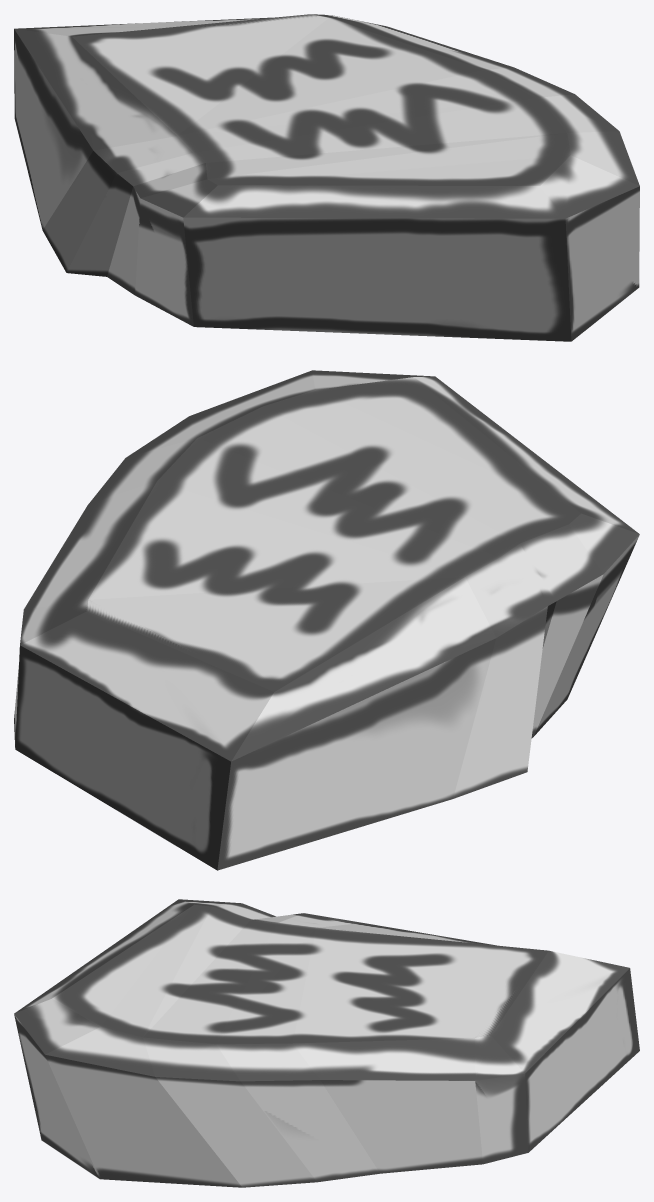
Rendered from Stone4.fbx.
3 views of the same model, one above another, from view 1: azimuth 30°, elevation 25°; view 2: azimuth 150°, elevation 25°; view 3: azimuth 270°, elevation 25° (orthographic). The views are drawn at different scales.
Parts seen in each view (by area): view 1: Stone4; view 2: Stone4; view 3: Stone4.
Boxes of the visible parts, x1,y1,x2,y2 form: Stone4: (14,14,639,341); Stone4: (14,370,639,870); Stone4: (14,899,639,1187).
Bounding box in the file's own units: 46 × 15.41 × 66.46.
Materials: 1 (1 with a texture image).
